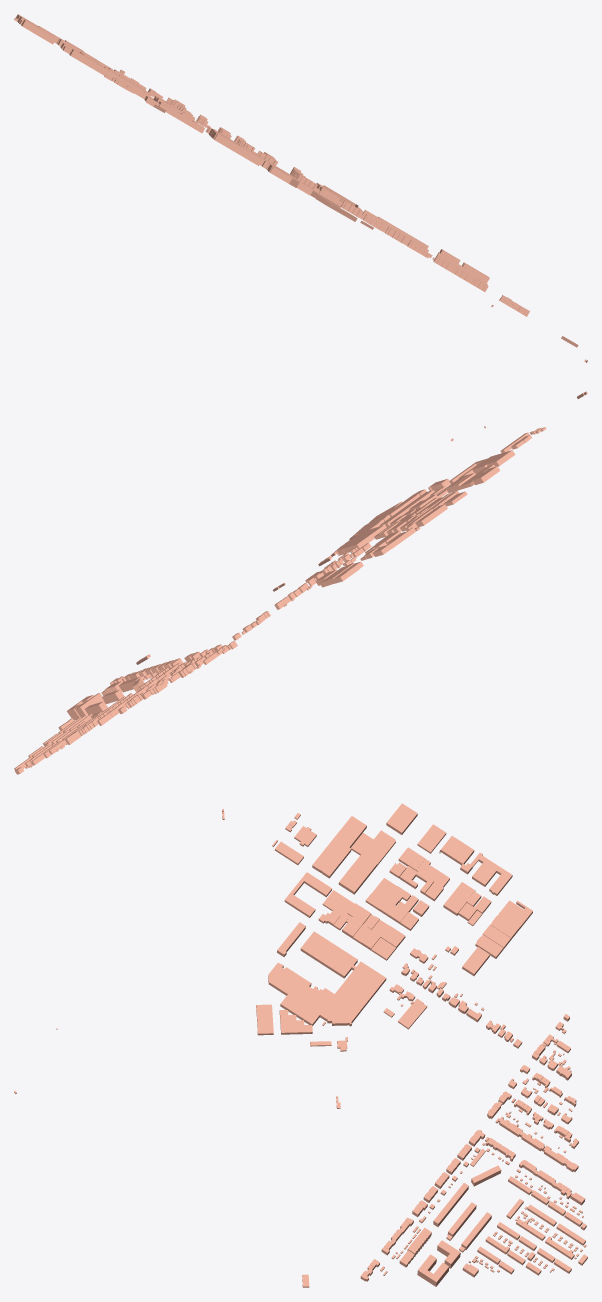
3 views of the same model, one above another, from view 1: azimuth 30°, elevation 25°; view 2: azimuth 150°, elevation 25°; view 3: azimuth 270°, elevation 25° (orthographic). The views are drawn at different scales.
Bounding box in the file's own units: 669 × 522 × 888.
